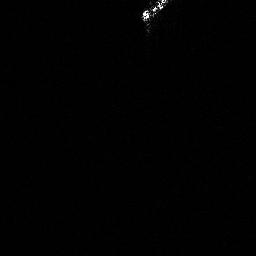ship: (140, 1, 169, 21)
